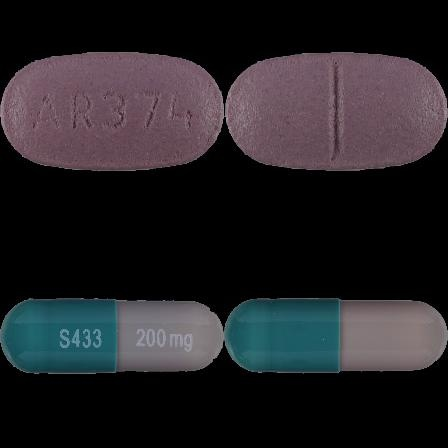66993-165: (0, 0, 224, 224)
